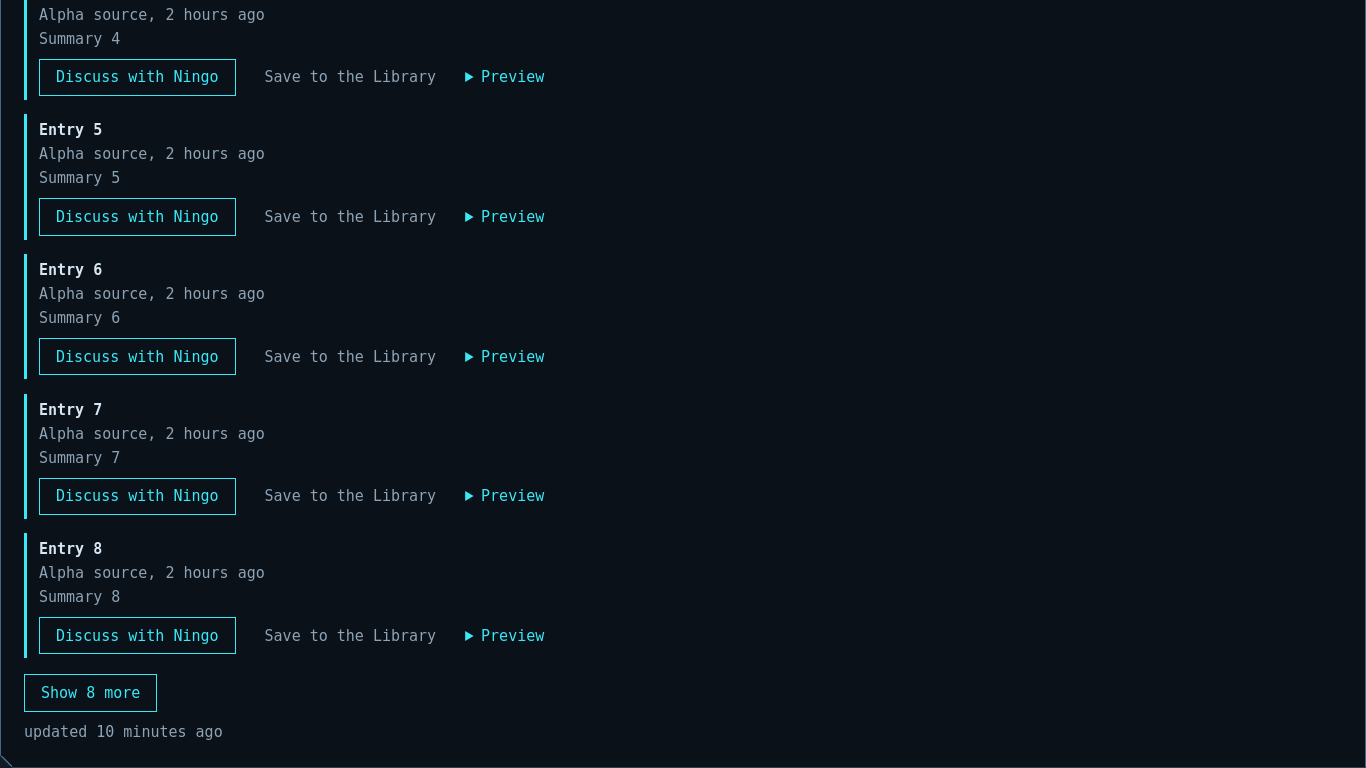
Test: the digest card › showing more › stops at the most the digest hands over
The image size is (1366, 768).
(page scrolled)
Click the button "Show 8 more" at (91, 693), box [24, 674, 157, 712]
(page scrolled)
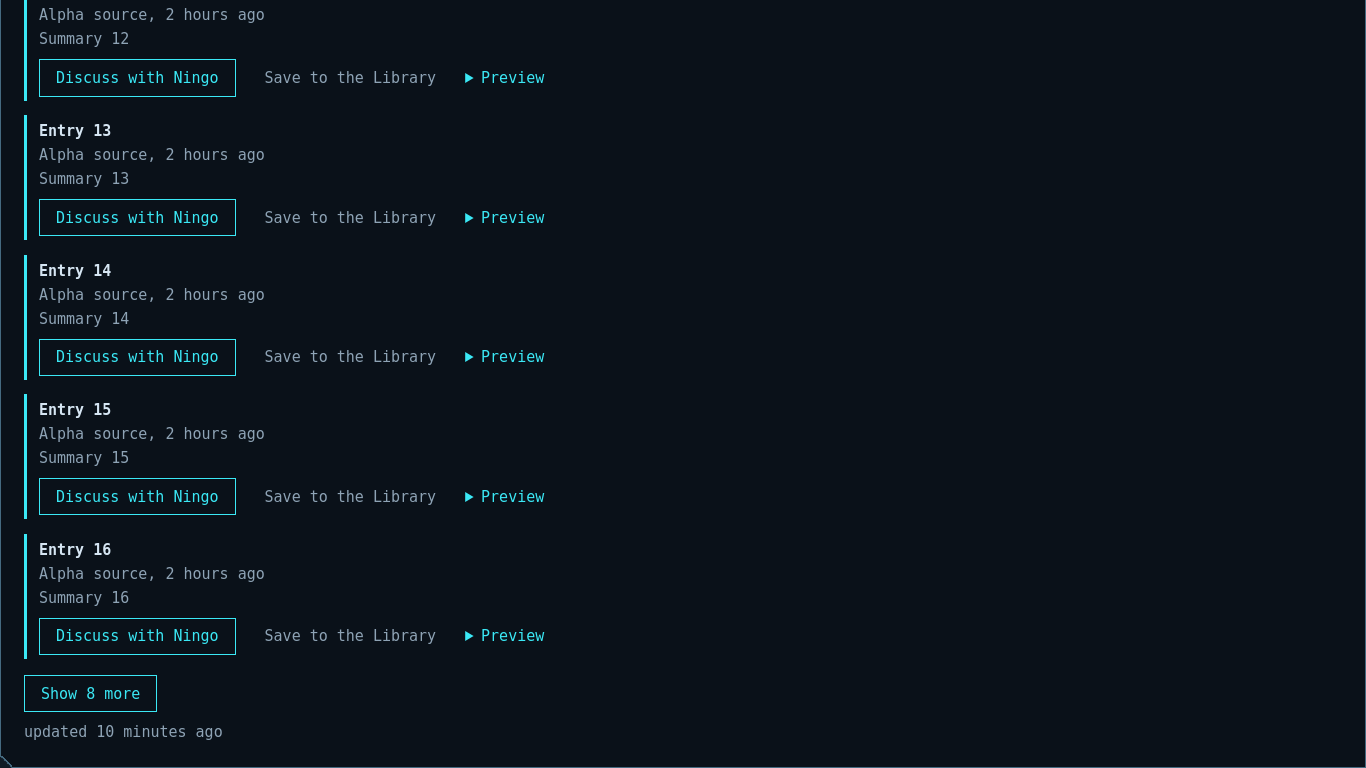
Click the button "Show 8 more" at (91, 694), box [24, 675, 157, 712]
(page scrolled)
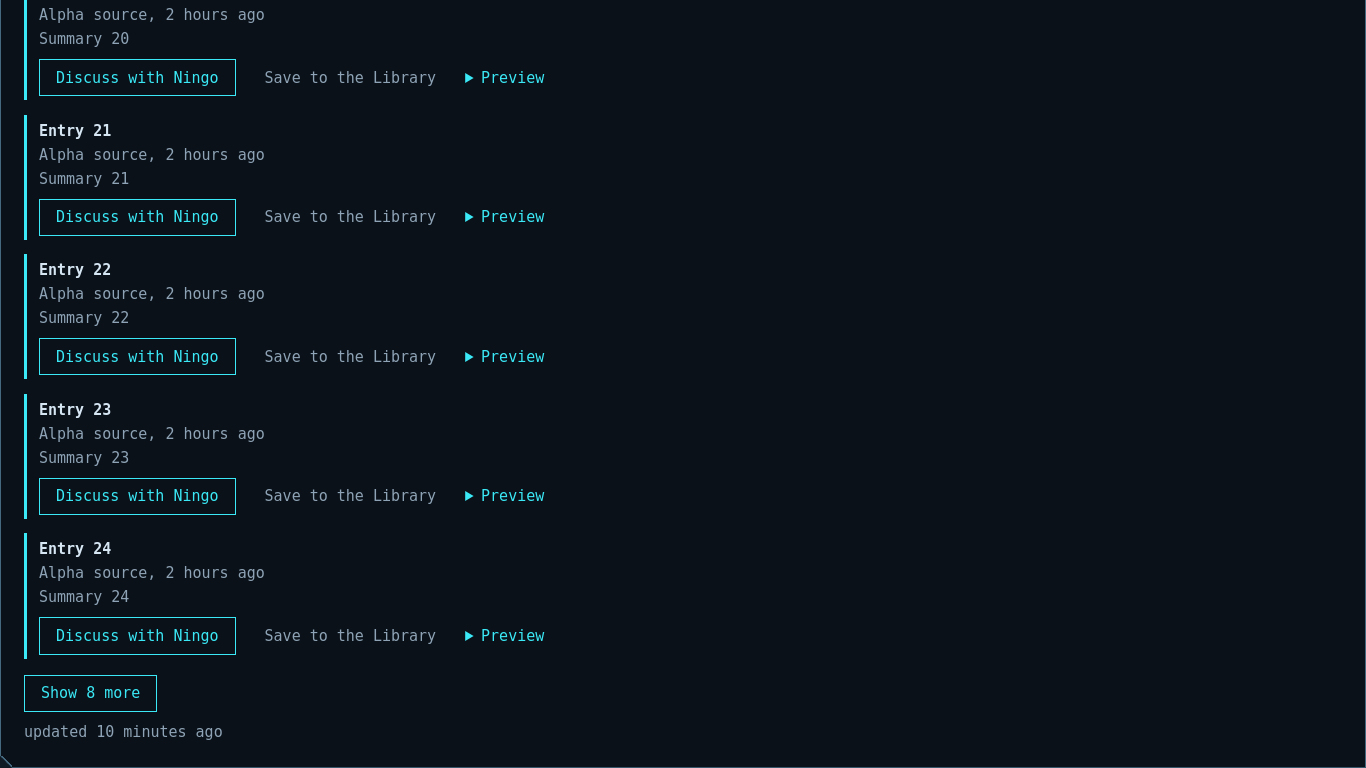
Click the button "Show 8 more" at (91, 693), box [24, 675, 157, 712]
(page scrolled)
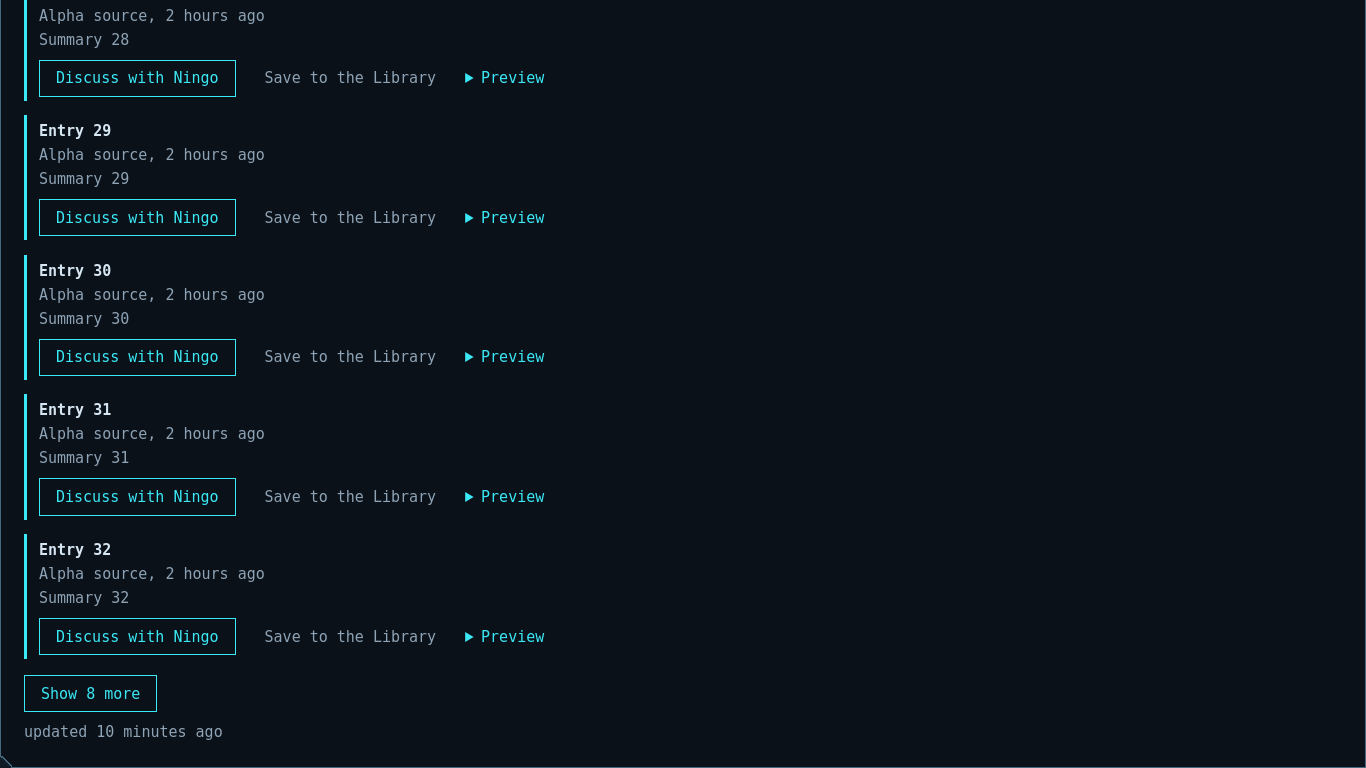
Click the button "Show 8 more" at (91, 694), box [24, 675, 157, 712]
(page scrolled)
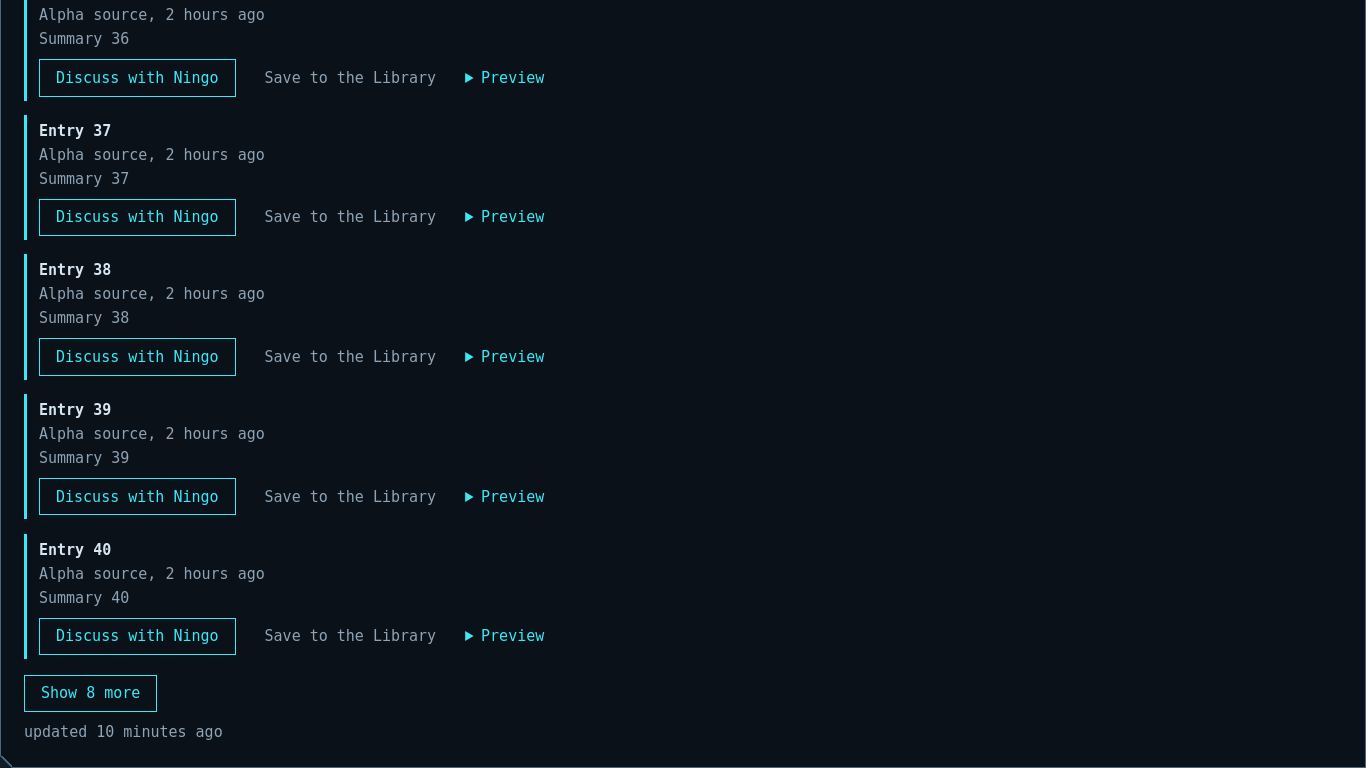
Click the button "Show 8 more" at (91, 693), box [24, 675, 157, 712]
(page scrolled)
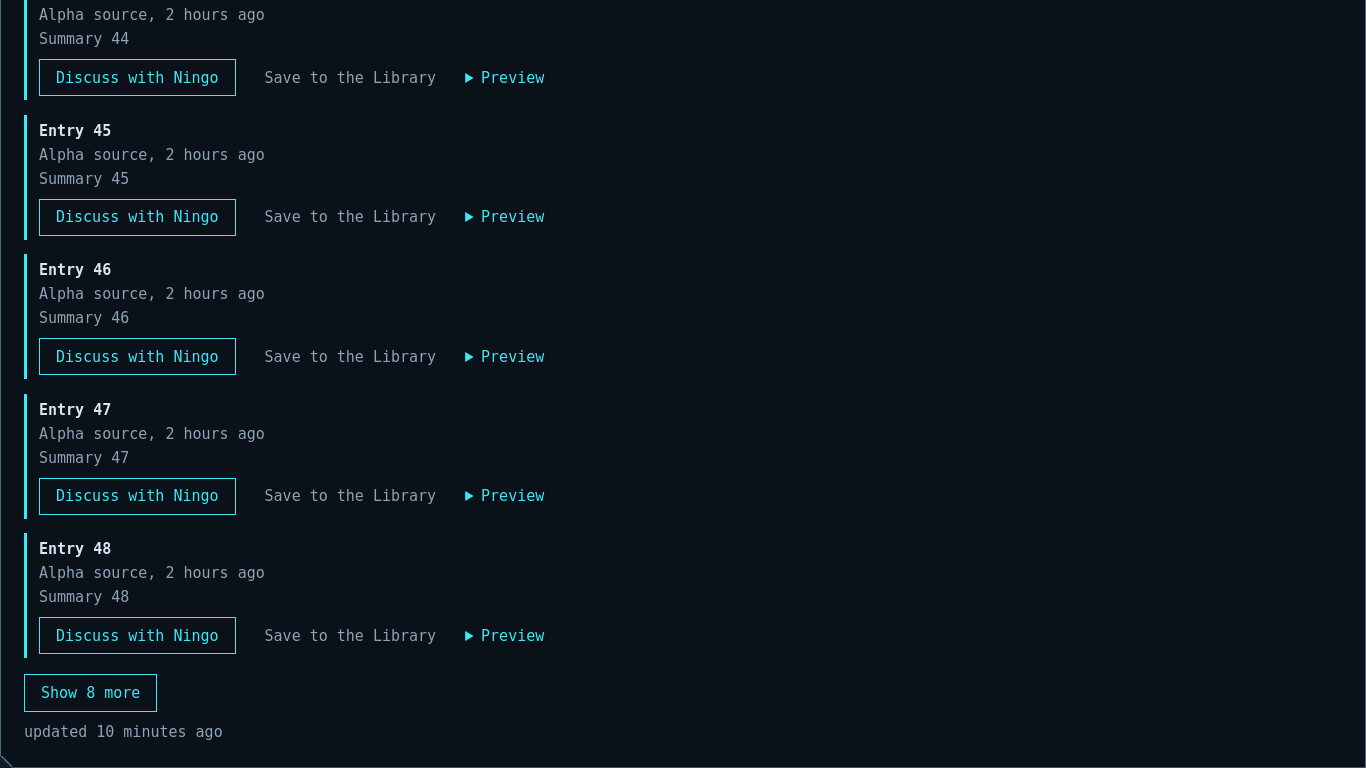
Click the button "Show 8 more" at (91, 693), box [24, 674, 157, 712]
(page scrolled)
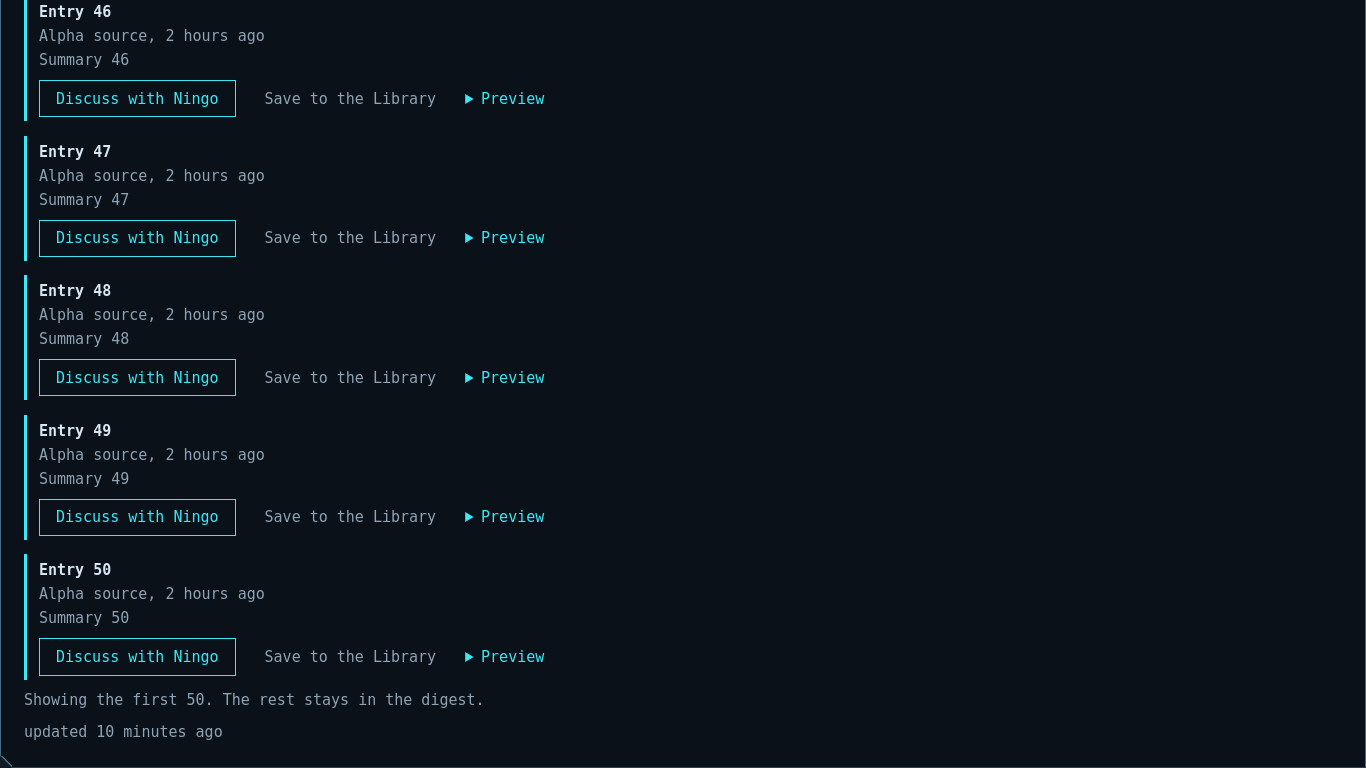
Expected: the text "Showing the first 50. The rest stays in the digest." is shown, [24, 691, 485, 709]
Expected: the button "Show 8 more" is gone
